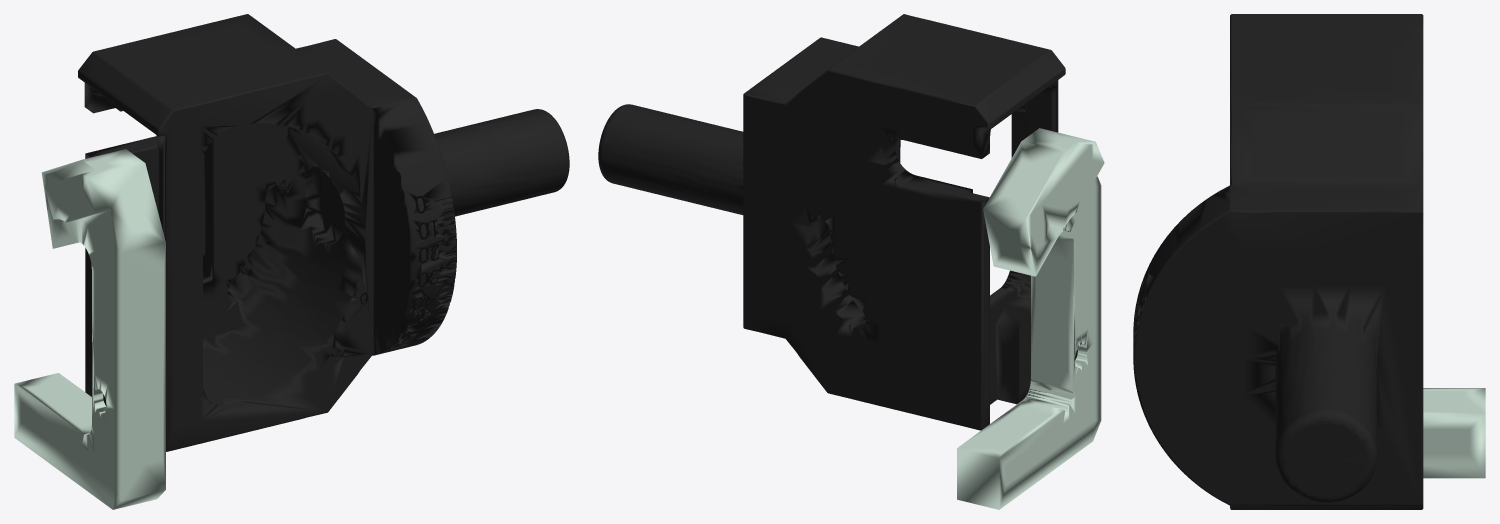
Rendered from condyle_left_parts_1.obj.
3 views of the same model, side by side, from view 1: azimuth 30°, elevation 25°; view 2: azimuth 150°, elevation 25°; view 3: azimuth 270°, elevation 25° (orthographic). The views are drawn at different scales.
Bounding box in the file's own units: 65.6 × 50.8 × 34.61.
